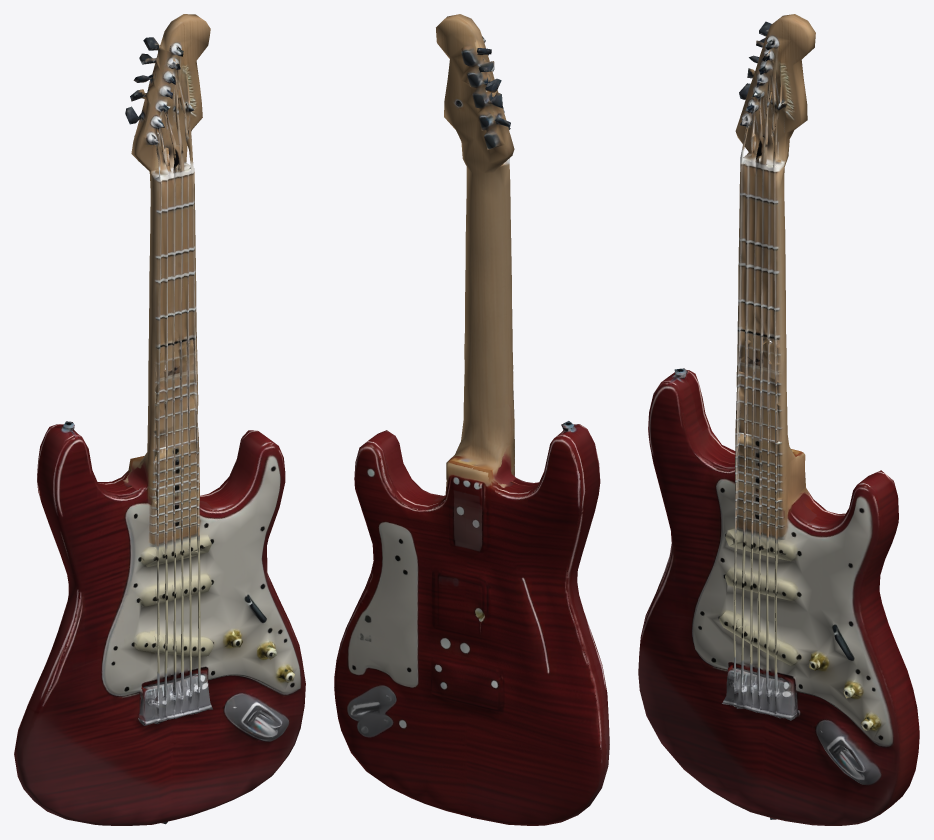
Rendered from Prop_Guitar_Electric_02.glb.
3 renders of one model, left to right at view 1: azimuth 30°, elevation 25°; view 2: azimuth 150°, elevation 25°; view 3: azimuth 330°, elevation 25°, orthographic. The views are drawn at different scales.
Parts seen in each view (by area): view 1: mesh_node; view 2: mesh_node; view 3: mesh_node.
Part boxes in pixels (x1=…): mesh_node: x1=14, y1=14, x2=305, y2=825; mesh_node: x1=334, y1=14, x2=609, y2=825; mesh_node: x1=638, y1=14, x2=919, y2=825.
Size of the model in its own units: 0.7094 by 1.98 by 0.1447.
1 material, 1 textured.
